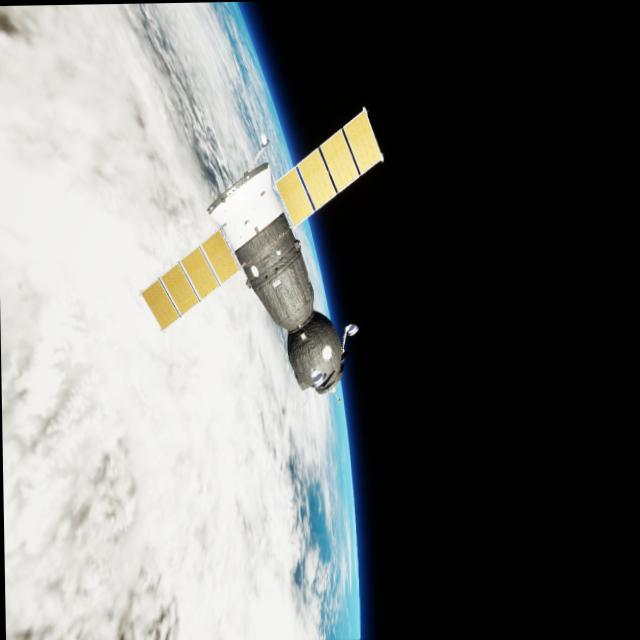Satellites revolving around earth: (134, 102, 389, 401)
